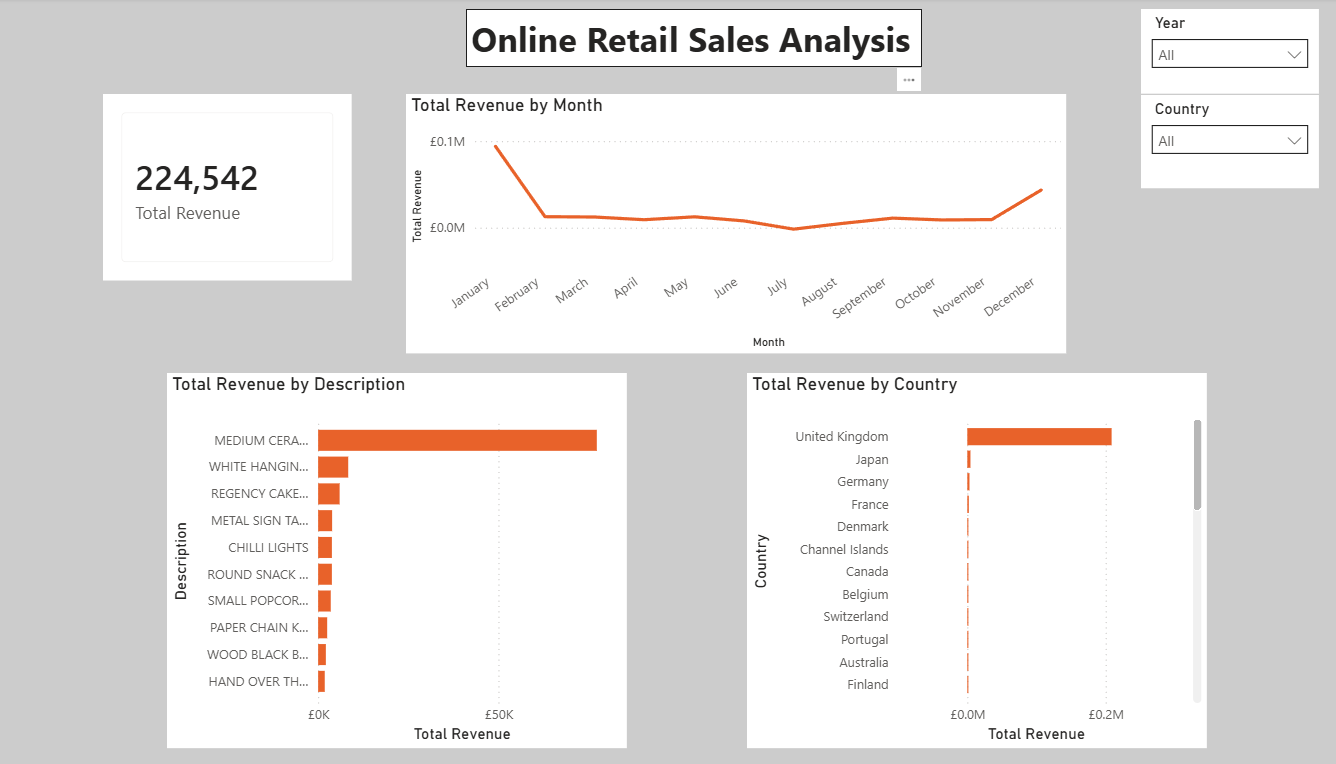

Layout of this report page (visuals, bound fields, positions):
{"tool":"powerbi","page":{"name":"Page 1","canvas":[1280,720],"ordinal":0},"visuals":[{"type":"cardVisual","fields":{"Data":["FactSales.Total Revenue"]},"box":[100.8,89.6,232.3,174.5],"z":0},{"type":"barChart","fields":{"Category":["DimCustomer.Country"],"Y":["FactSales.Total Revenue"]},"box":[700.8,349.9,429.1,349.9],"z":1},{"type":"barChart","fields":{"Category":["DimProduct.Description"],"Y":["FactSales.Total Revenue"]},"box":[160.7,349.9,429.1,349.9],"z":2},{"type":"slicer","fields":{"Values":["DimCustomer.Country"]},"box":[1068.2,90.5,166.1,86.8],"z":3},{"type":"slicer","fields":{"Values":["Date.Year"]},"box":[1068.2,10.3,166.1,79.3],"z":4},{"type":"lineChart","fields":{"Category":["Date.Month"],"Y":["FactSales.Total Revenue"]},"box":[383.7,89.8,615.2,242],"z":5},{"type":"textbox","box":[439.7,10.6,423.8,53.9],"z":6}]}

Visuals, with their boxes in screenshot pixels (x1, y1, x2, y2), scaled from the page's 1280x720 canvas onto the 1336x764 screenshot:
cardVisual - FactSales.Total Revenue: x1=105 y1=95 x2=348 y2=280
barChart - DimCustomer.Country x FactSales.Total Revenue: x1=731 y1=371 x2=1179 y2=743
barChart - DimProduct.Description x FactSales.Total Revenue: x1=168 y1=371 x2=616 y2=743
slicer - DimCustomer.Country: x1=1115 y1=96 x2=1288 y2=188
slicer - Date.Year: x1=1115 y1=11 x2=1288 y2=95
lineChart - Date.Month x FactSales.Total Revenue: x1=400 y1=95 x2=1043 y2=352
textbox: x1=459 y1=11 x2=901 y2=68
